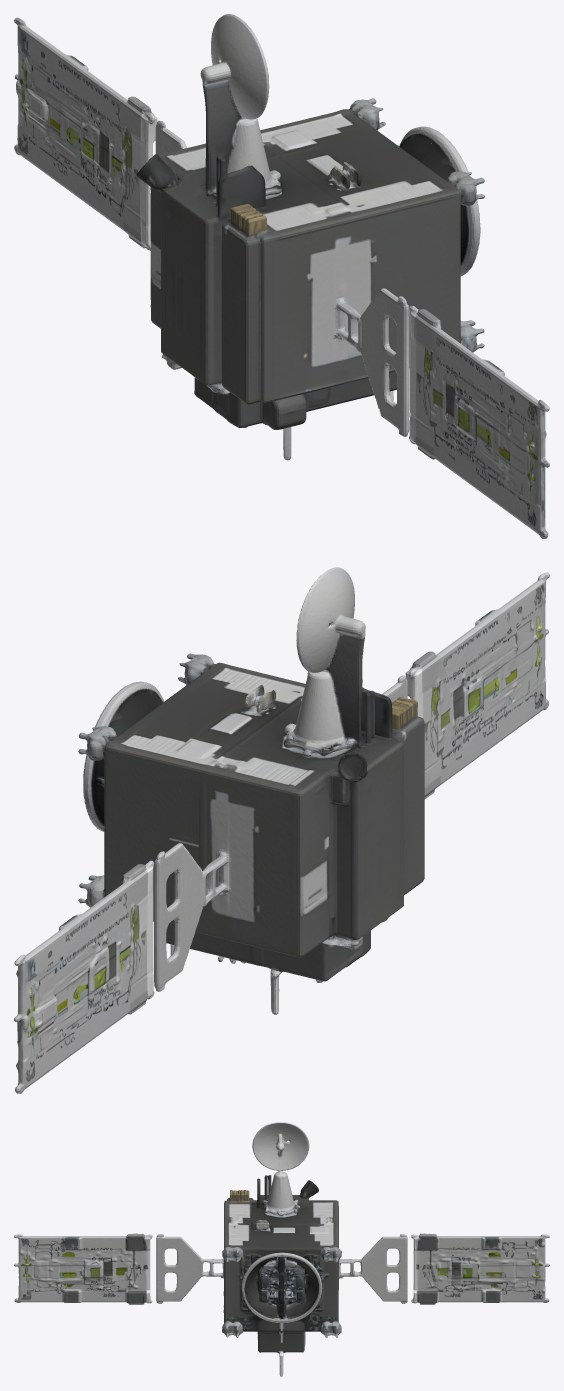
File: danuri.glb
3 renders of one model, top to bottom at view 1: azimuth 30°, elevation 25°; view 2: azimuth 150°, elevation 25°; view 3: azimuth 270°, elevation 25°, orthographic. The views are drawn at different scales.
Visible parts, largest first — view 1: tripo_node_063fa88c-1055-4348-81eb-2a6e3dcbe972; view 2: tripo_node_063fa88c-1055-4348-81eb-2a6e3dcbe972; view 3: tripo_node_063fa88c-1055-4348-81eb-2a6e3dcbe972.
Boxes of the visible parts, box(x1,y1,x2,y2) form: tripo_node_063fa88c-1055-4348-81eb-2a6e3dcbe972: box(14, 14, 549, 538); tripo_node_063fa88c-1055-4348-81eb-2a6e3dcbe972: box(14, 567, 549, 1093); tripo_node_063fa88c-1055-4348-81eb-2a6e3dcbe972: box(14, 1122, 549, 1376).
Size of the model in its own units: 0.2968 by 0.4476 by 1.
Materials: 1 (1 with a texture image).
